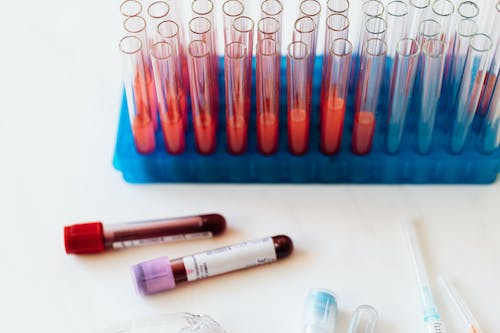blood: (172, 233, 294, 296), (108, 211, 227, 256), (349, 37, 388, 155), (118, 35, 156, 156), (317, 37, 353, 156), (149, 41, 185, 156), (465, 0, 500, 116), (186, 38, 216, 155), (254, 37, 280, 154), (286, 40, 312, 155), (223, 41, 249, 155)
